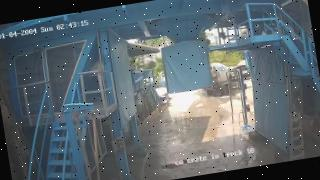cement_mixer_truck: (202, 61, 240, 95)
